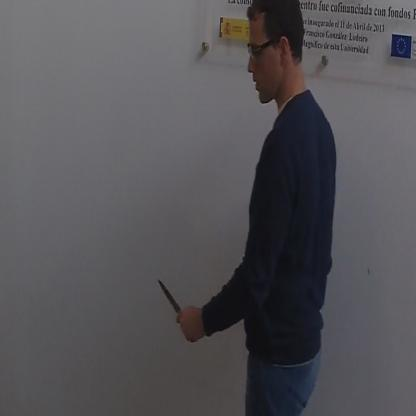knife: (154, 272, 192, 336)
